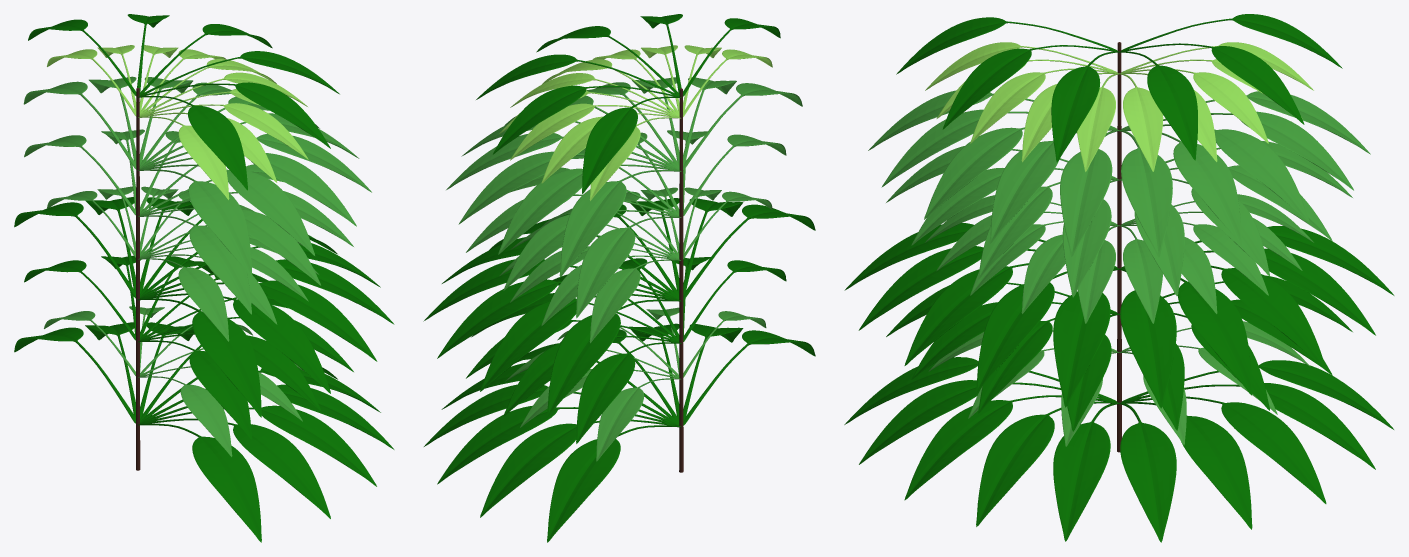
File: small_plant_half.fbx
3 views of the same model, side by side, from view 1: azimuth 30°, elevation 25°; view 2: azimuth 150°, elevation 25°; view 3: azimuth 270°, elevation 25° (orthographic). The views are drawn at different scales.
Visible parts, largest first — view 1: Circle.064, Circle.070, Circle.068, Circle.069, Circle.074, Circle.071, Circle.066, Circle.067, Circle.072, small_plant_half; view 2: Circle.064, Circle.070, Circle.068, Circle.069, Circle.071, Circle.074, Circle.066, Circle.067, Circle.072, small_plant_half; view 3: Circle.064, Circle.070, Circle.068, Circle.069, Circle.067, Circle.074, Circle.071, Circle.066, Circle.072, small_plant_half.
Boxes of the visible parts, <box> form: Circle.064: <box>14,322,394,542</box>; Circle.070: <box>14,197,394,417</box>; Circle.068: <box>23,76,371,277</box>; Circle.069: <box>28,14,339,190</box>; Circle.074: <box>47,45,308,199</box>; Circle.071: <box>24,129,353,314</box>; Circle.066: <box>24,255,353,439</box>; Circle.067: <box>47,186,318,341</box>; Circle.072: <box>44,306,303,456</box>; small_plant_half: <box>136,88,140,470</box>; Circle.064: <box>424,323,815,542</box>; Circle.070: <box>423,198,815,416</box>; Circle.068: <box>446,77,802,277</box>; Circle.069: <box>476,14,780,193</box>; Circle.071: <box>466,130,786,318</box>; Circle.074: <box>499,45,772,200</box>; Circle.066: <box>466,257,786,443</box>; Circle.067: <box>499,187,772,343</box>; Circle.072: <box>505,307,766,461</box>; small_plant_half: <box>679,88,683,472</box>; Circle.064: <box>844,357,1393,542</box>; Circle.070: <box>844,223,1394,408</box>; Circle.068: <box>868,90,1370,257</box>; Circle.069: <box>896,14,1342,162</box>; Circle.067: <box>925,194,1313,323</box>; Circle.074: <box>925,42,1313,171</box>; Circle.071: <box>886,141,1352,297</box>; Circle.066: <box>886,275,1352,431</box>; Circle.072: <box>928,321,1310,446</box>; small_plant_half: <box>1117,42,1121,452</box>.
Bounding box in the file's own units: 31.27 × 48.88 × 56.61.
